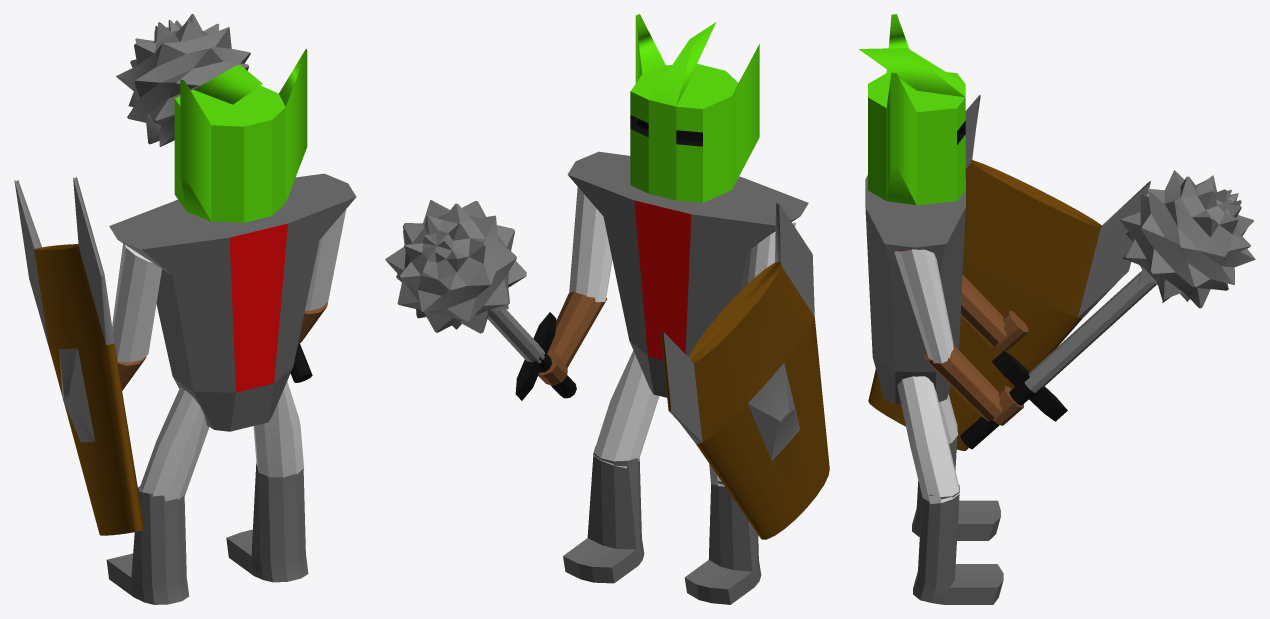
The model's file is Guardian_Barrack.fbx.
3 renders of one model, left to right at view 1: azimuth 30°, elevation 25°; view 2: azimuth 150°, elevation 25°; view 3: azimuth 270°, elevation 25°, orthographic. The views are drawn at different scales.
Parts seen in each view (by area): view 1: pCylinder38; view 2: pCylinder38; view 3: pCylinder38.
Part boxes in pixels (left/top/right/bottom): pCylinder38: left=14, top=14, right=356, bottom=604; pCylinder38: left=385, top=14, right=829, bottom=604; pCylinder38: left=858, top=14, right=1255, bottom=604.
Size of the model in its own units: 31.56 by 56.15 by 38.71.
